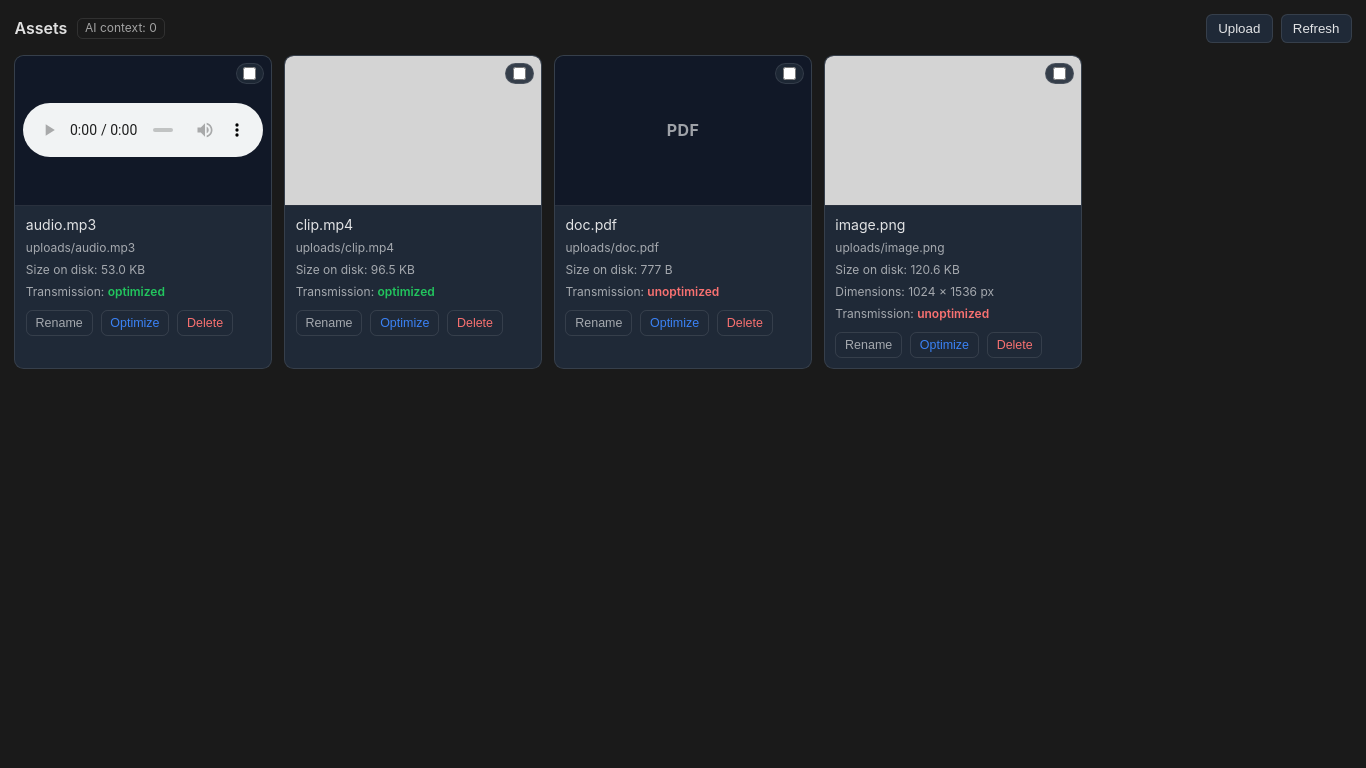
Test: AssetsTab › shows validation error when rename includes path separators
This screenshot has width=1366, height=768.
Click the button with class "assets-tab__action--rename" below "53.0 KB" at (59, 323), box left=26, top=310, right=92, bottom=336
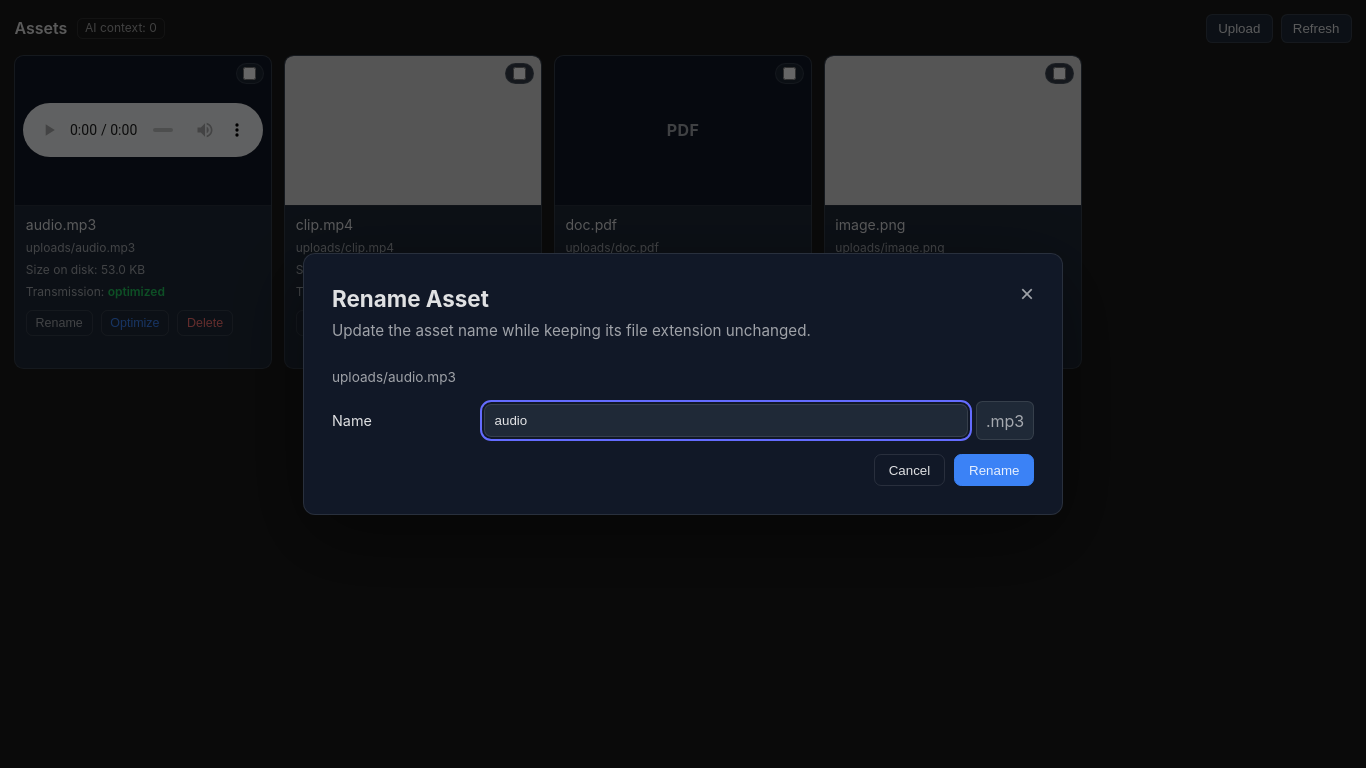
Replace the text in the field labelled "Name .mp3" with "nested/hero" at (726, 421), box left=484, top=404, right=968, bottom=437
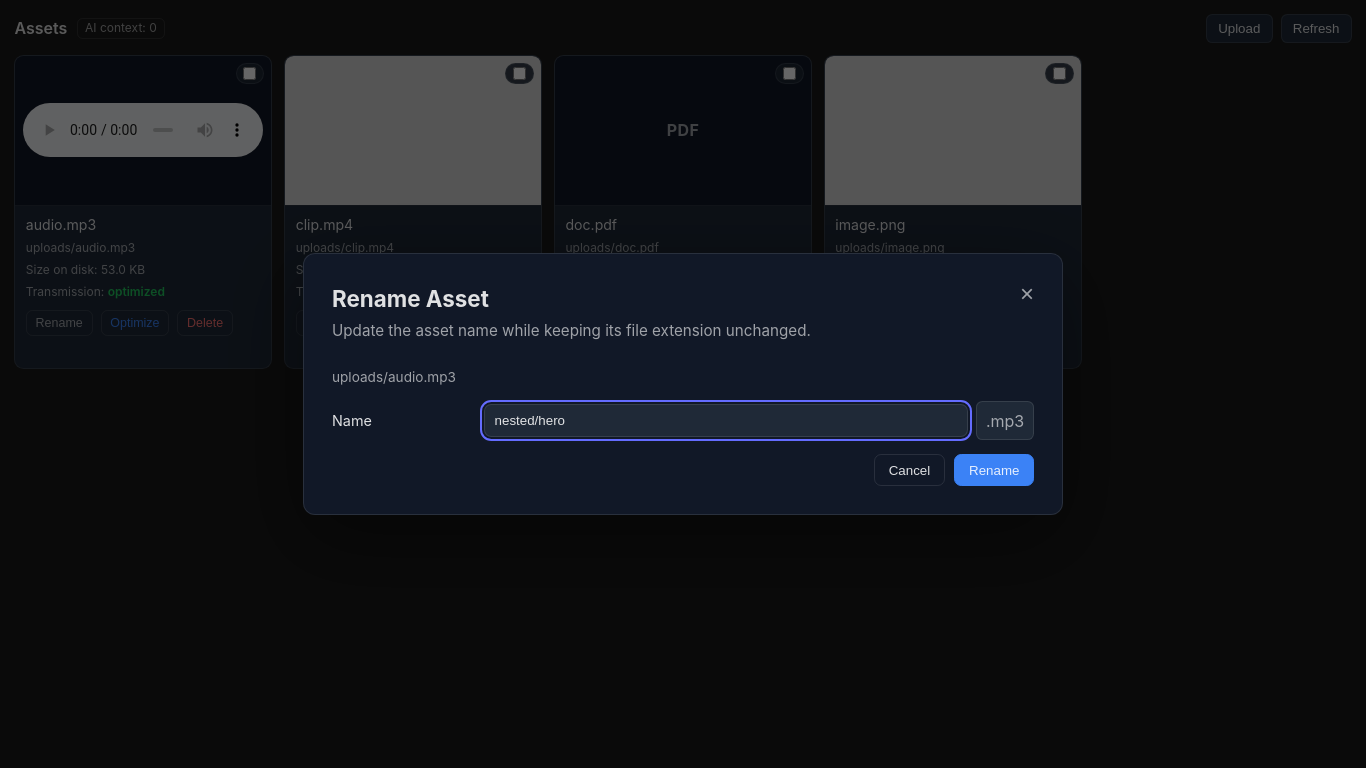
Click the button "Rename" at (994, 470), box left=954, top=454, right=1034, bottom=486
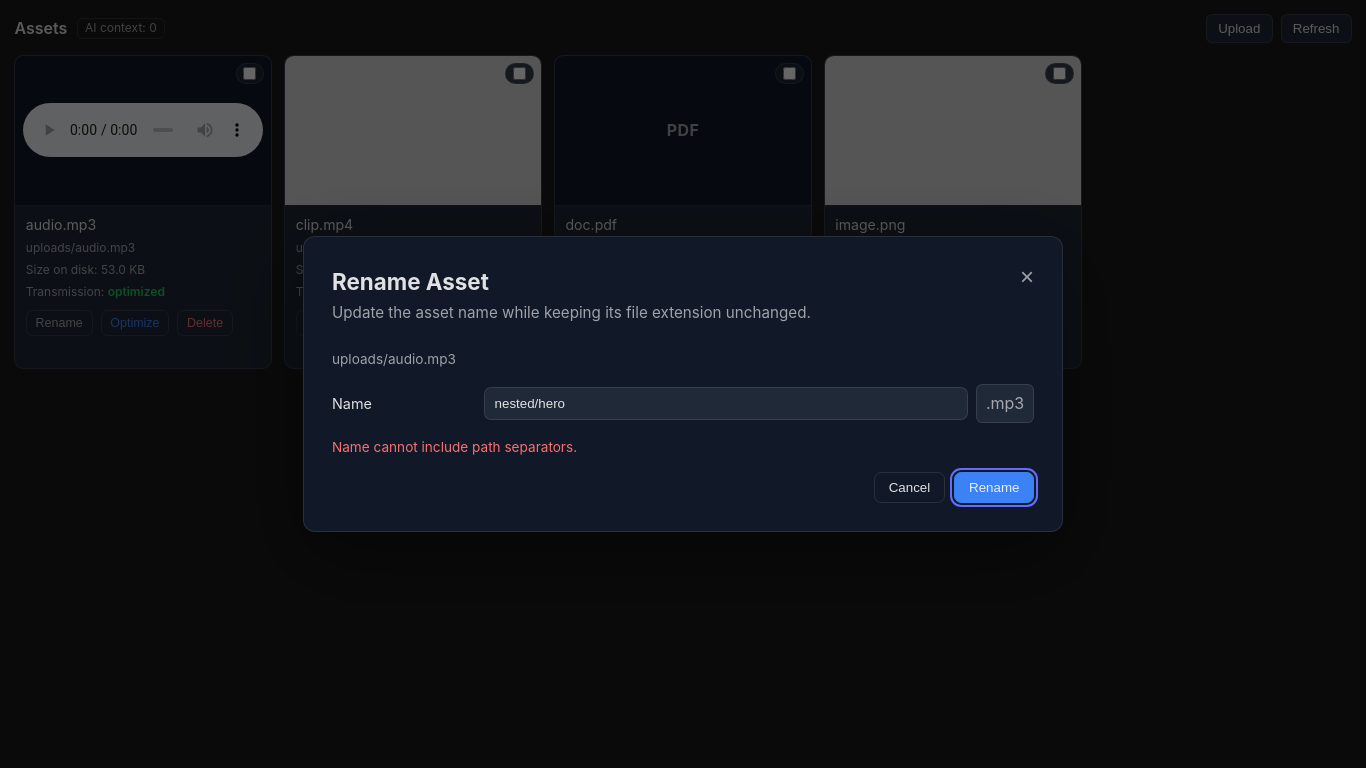
Expected: the text with test id "asset-rename-error" reads "Name cannot include path separators.", left=332, top=439, right=577, bottom=455
